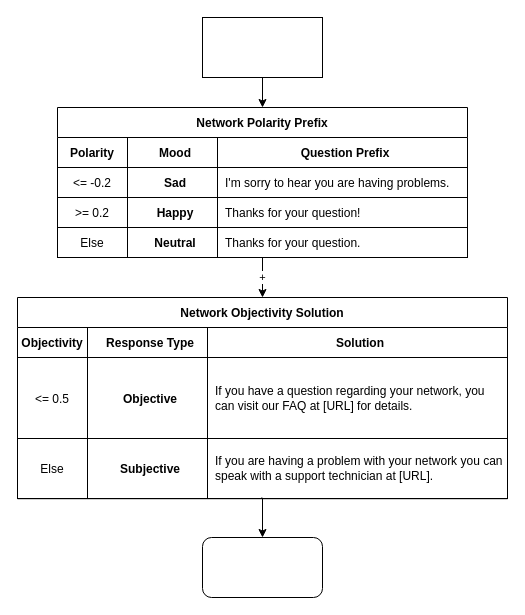
Image size: 525x615. Some labels were removed from this diagram. Here are the shapes that lost their labels. From the top down, the centre of each, then its label:
At point 262,47: "Network Question".
At point 262,567: "Response (Prefix + Solution)".
